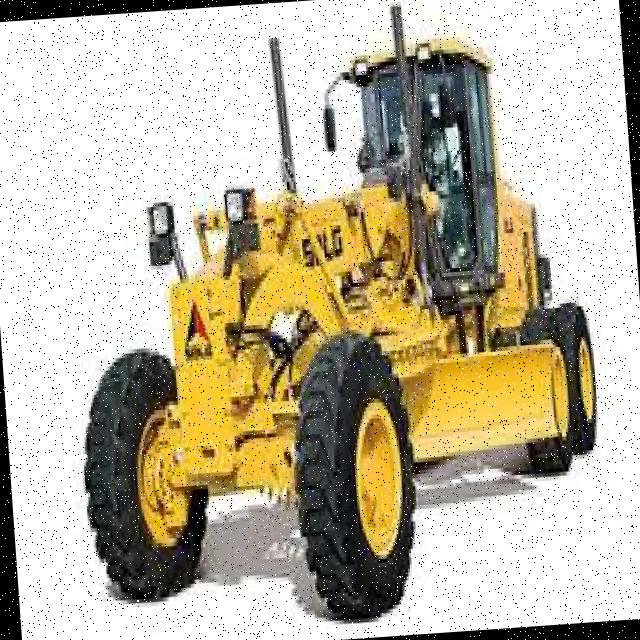Grader: (49, 16, 626, 634)
